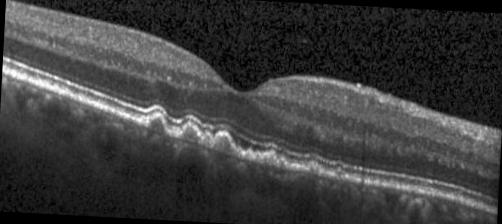retinal_drusen: (212, 135, 240, 156), (149, 116, 169, 137), (179, 124, 200, 142), (263, 152, 278, 166), (304, 164, 319, 175), (200, 134, 212, 147), (334, 169, 345, 179), (244, 150, 253, 158), (279, 159, 284, 167), (255, 153, 259, 158)
